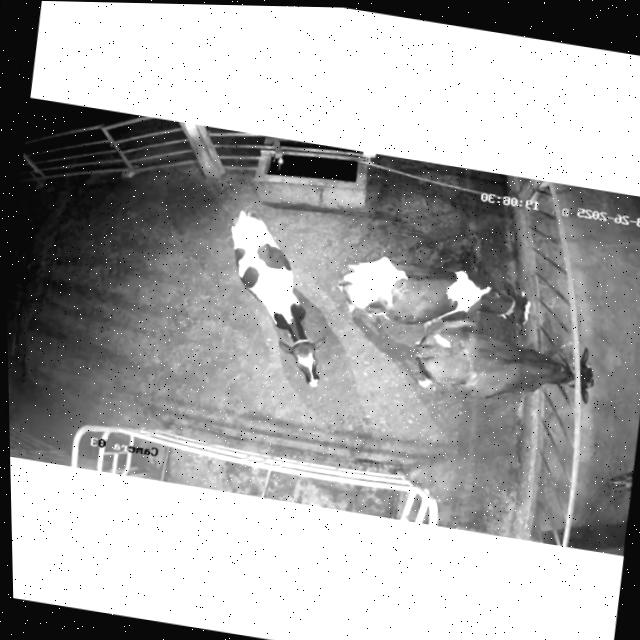stand: (202, 203, 346, 404), (333, 246, 537, 345)
